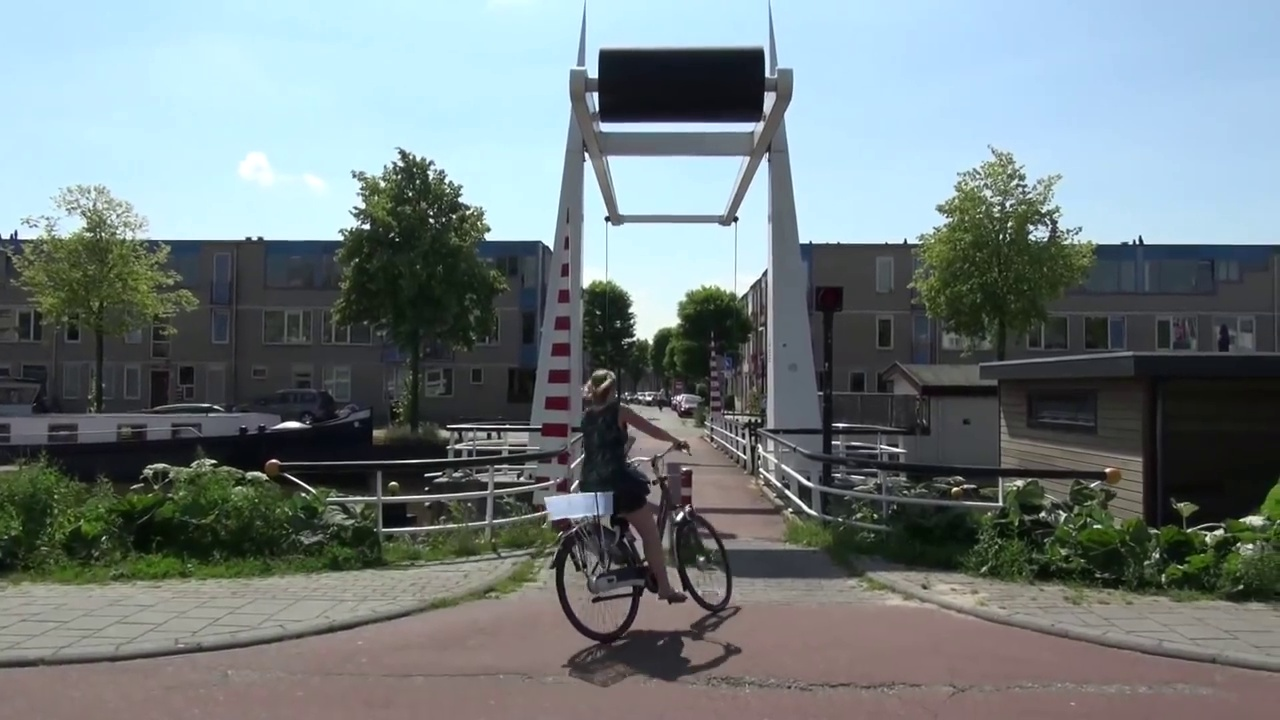cyclist_side: (542, 357, 745, 640)
